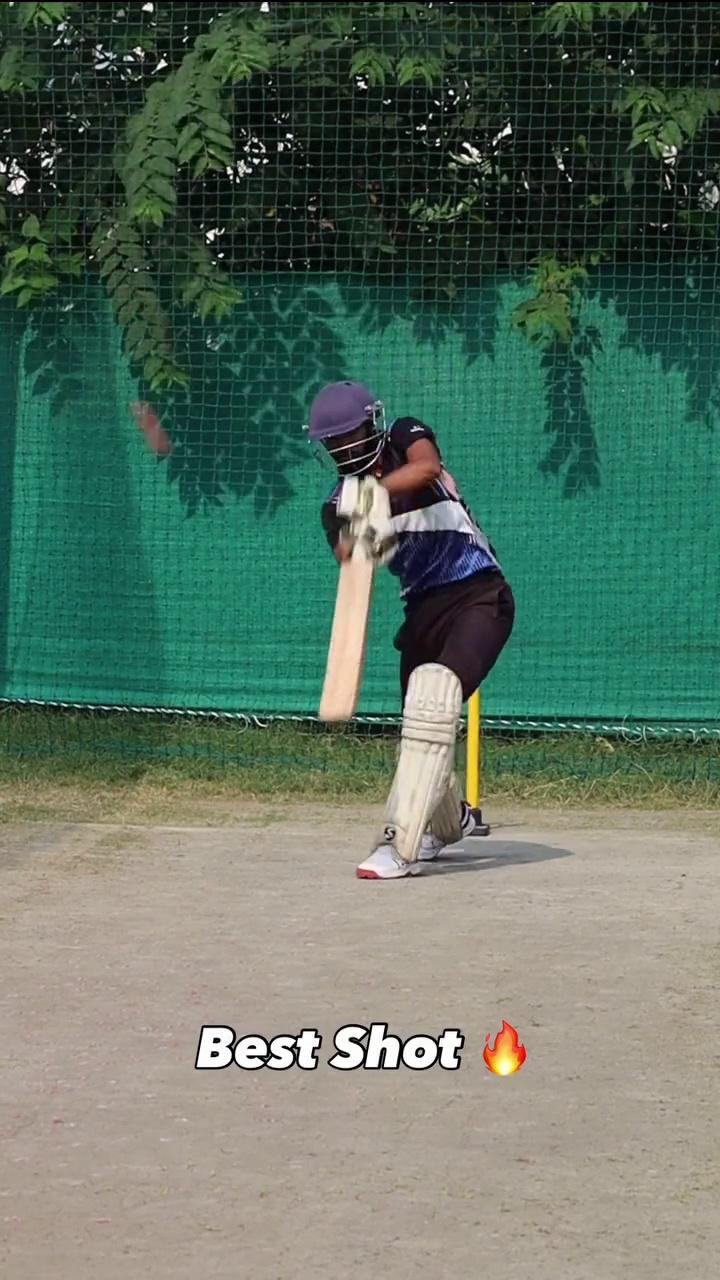bat: (317, 556, 375, 726)
